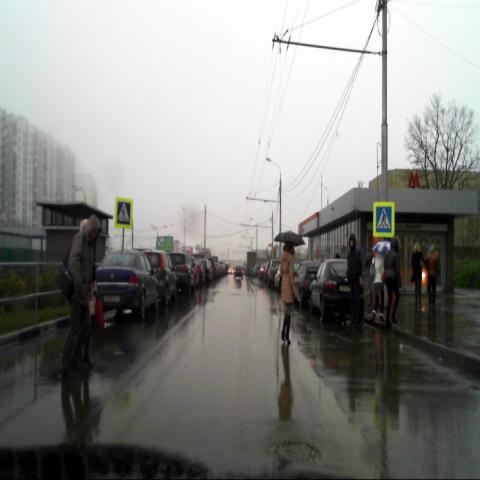5_19_1: (374, 202, 394, 237), (115, 197, 133, 229)
